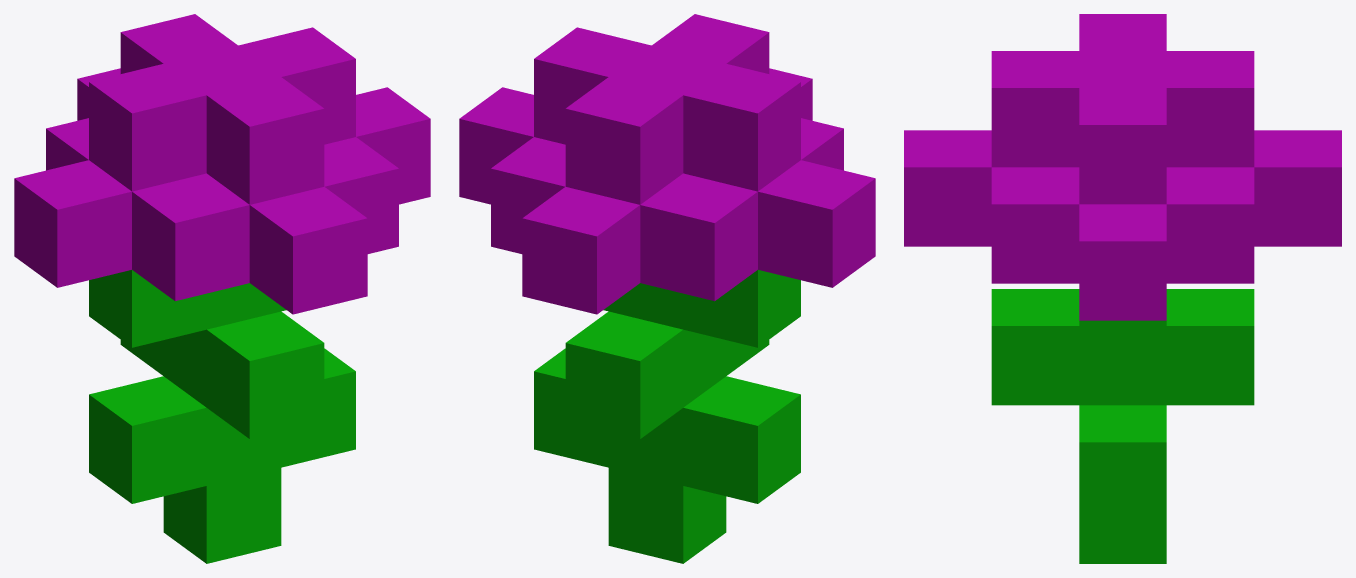
Rendered from Flower_6.fbx.
The picture shows the model from 3 angles, left to right: view 1: azimuth 30°, elevation 25°; view 2: azimuth 150°, elevation 25°; view 3: azimuth 270°, elevation 25°; orthographic projection.
Parts seen in each view (by area): view 1: Flower_6; view 2: Flower_6; view 3: Flower_6.
Boxes of the visible parts, x1,y1,x2,y2 form: Flower_6: (14,14,430,563); Flower_6: (459,14,875,563); Flower_6: (904,14,1341,563).
Size of the model in its own units: 500 by 600 by 500.
